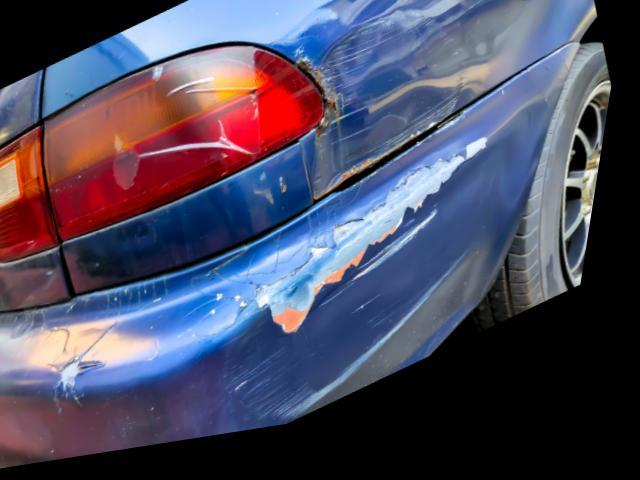crack: (68, 359, 119, 413)
dent: (253, 169, 502, 428), (319, 26, 468, 210)
scratch: (254, 153, 497, 344)
